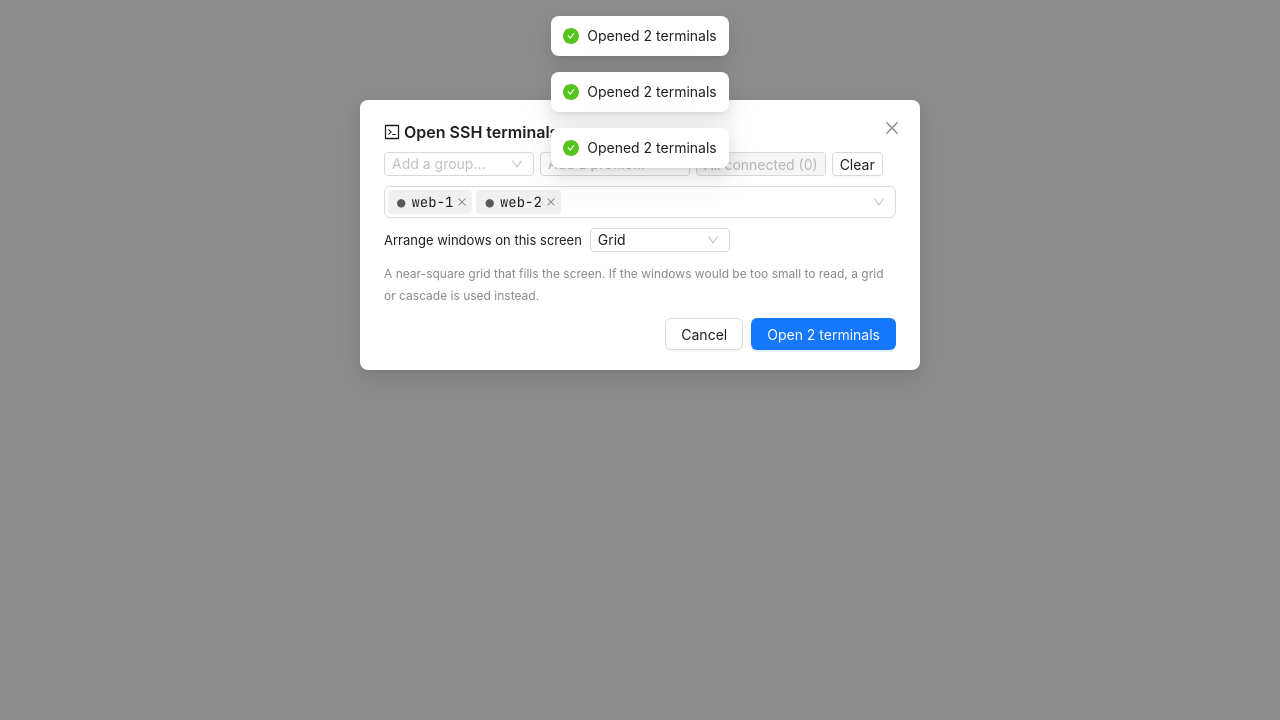
Scenario: TerminalsModal › keeps the dialog open and lists hosts that failed
The width and height of the screenshot is (1280, 720).
Step 1. Click the button "Open 2 terminals" → (824, 334), box [751,318,896,350]
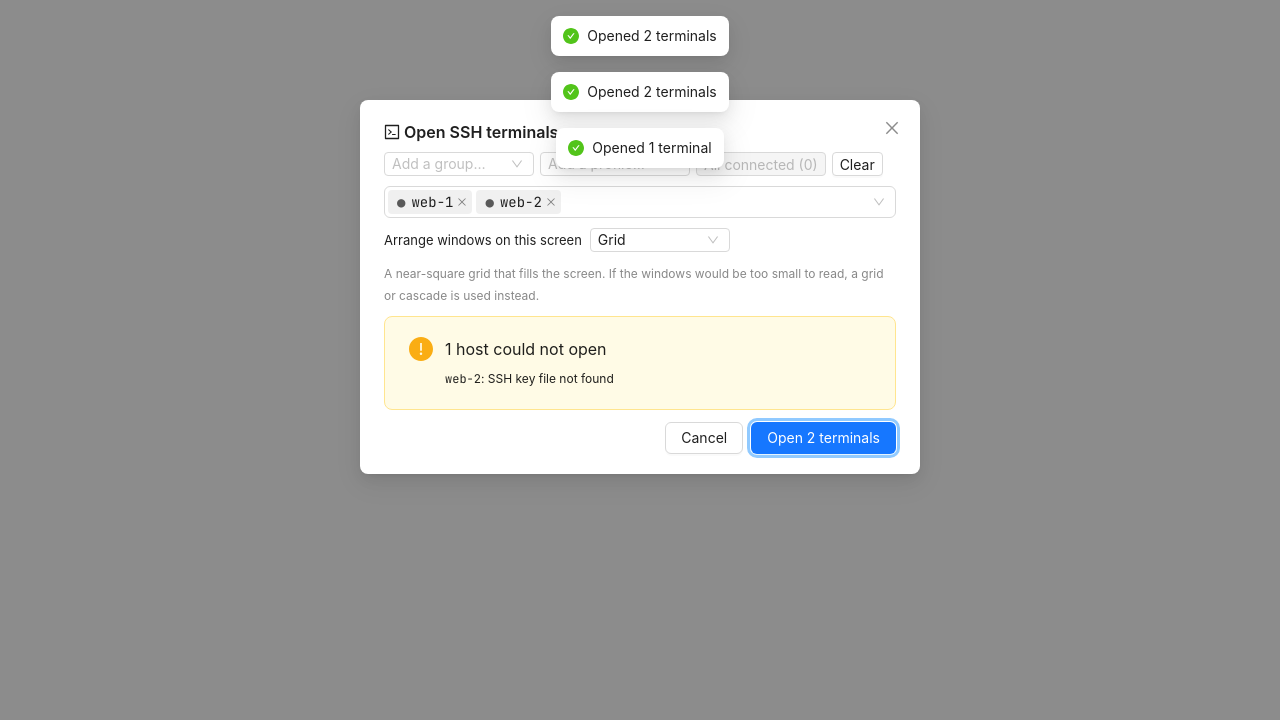
Expected: the text "1 host could not open" is shown, [445,339,607,359]
Expected: the text "web-2: SSH key file not found" is shown, [445,371,614,387]
